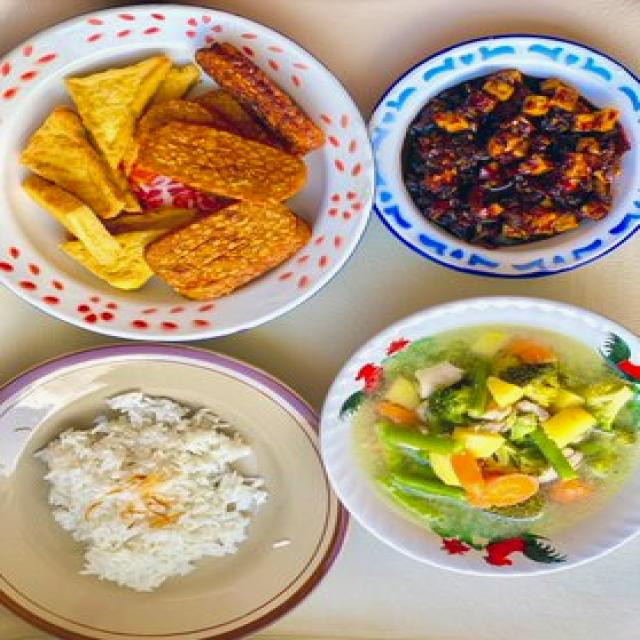nasi: (37, 389, 268, 592)
sop: (353, 324, 640, 564)
tahu goreng: (64, 53, 195, 178), (21, 105, 131, 222)
tempe goreng: (145, 199, 310, 300), (140, 119, 307, 203)
